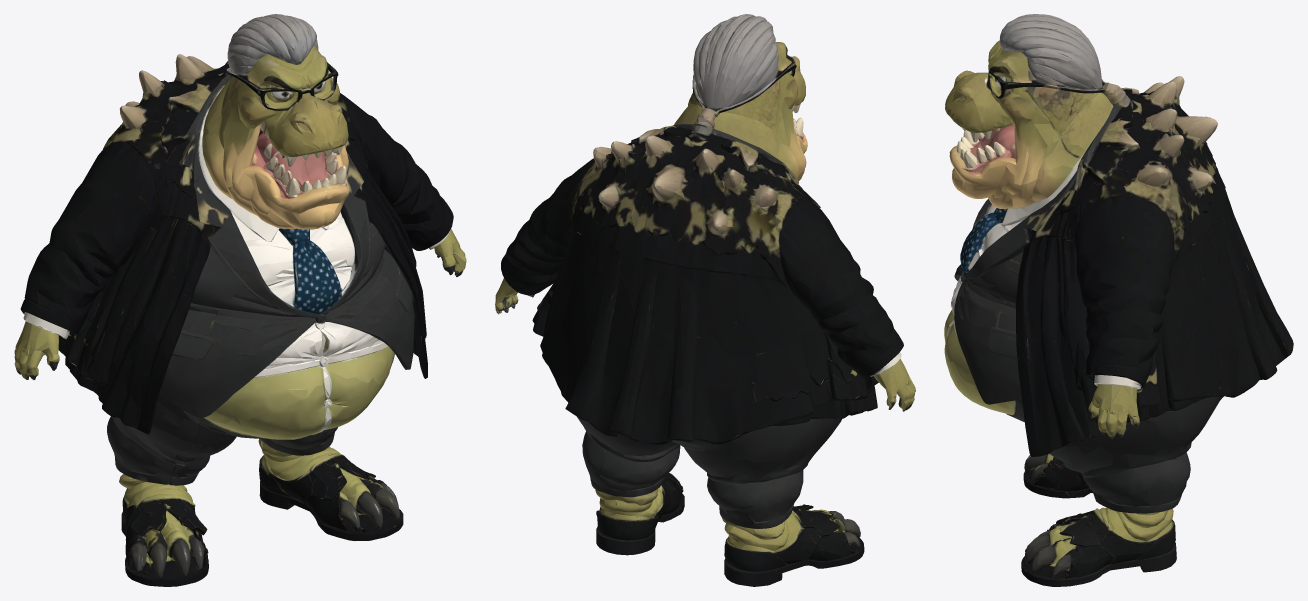
The model's file is trex.glb.
The picture shows the model from 3 angles, left to right: view 1: azimuth 30°, elevation 25°; view 2: azimuth 150°, elevation 25°; view 3: azimuth 270°, elevation 25°; orthographic projection. The views are drawn at different scales.
Parts seen in each view (by area): view 1: output_unwrapped; view 2: output_unwrapped; view 3: output_unwrapped.
Boxes of the visible parts, x1=… form: output_unwrapped: x1=14, y1=14, x2=466, y2=586; output_unwrapped: x1=495, y1=14, x2=915, y2=586; output_unwrapped: x1=944, y1=14, x2=1293, y2=586.
Size of the model in its own units: 1.65 by 1.9 by 1.19.
1 material, 1 textured.
